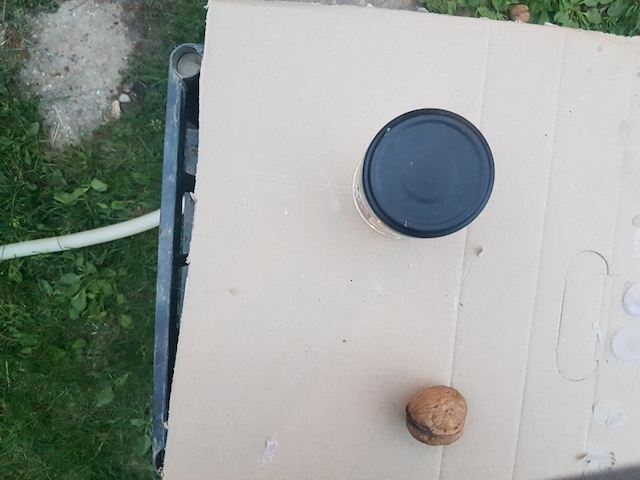nut: (407, 385, 469, 447)
recipient: (365, 109, 494, 238)
